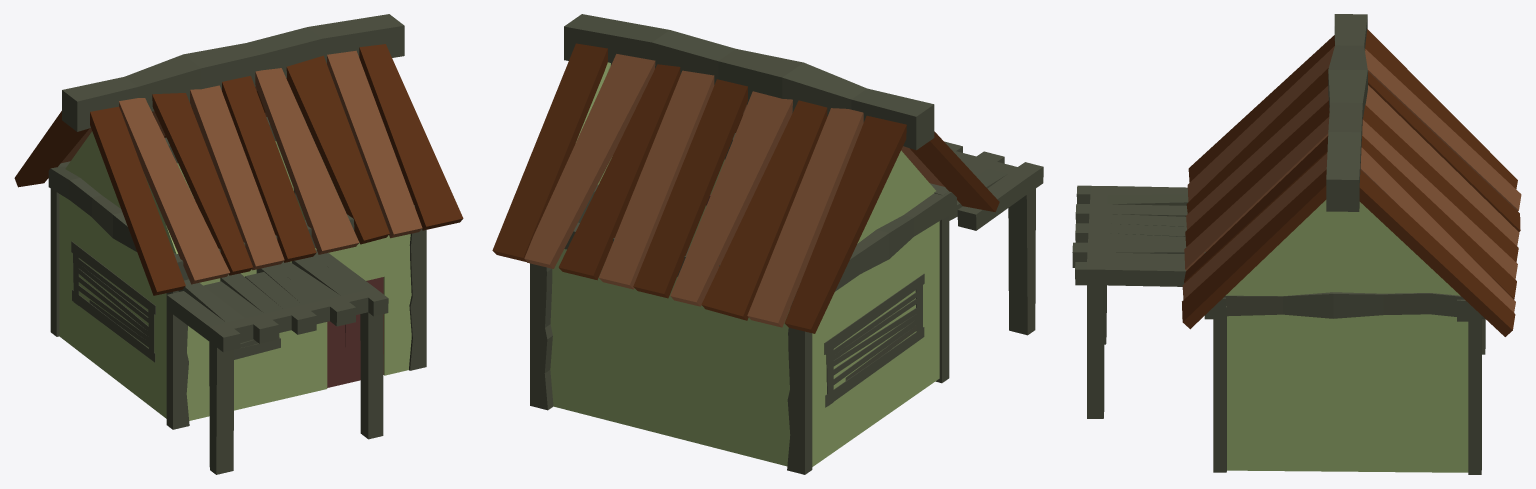
Rendered from Green house.fbx.
3 renders of one model, left to right at view 1: azimuth 30°, elevation 25°; view 2: azimuth 150°, elevation 25°; view 3: azimuth 270°, elevation 25°, orthographic. The views are drawn at different scales.
Visible parts, largest first — view 1: Cube.076; view 2: Cube.076; view 3: Cube.076.
Part boxes in pixels (box(x1,y1,x2,y2)): Cube.076: box(14, 14, 463, 474); Cube.076: box(492, 14, 1043, 474); Cube.076: box(1072, 14, 1521, 474).
Size of the model in its own units: 1198 by 1075 by 1370.
